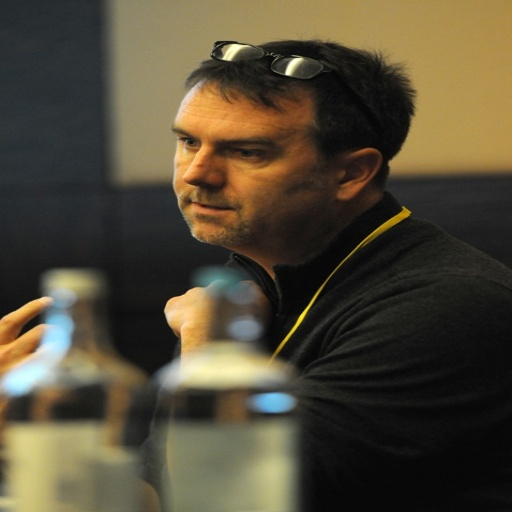hand: (160, 280, 269, 339), (0, 295, 64, 376)
